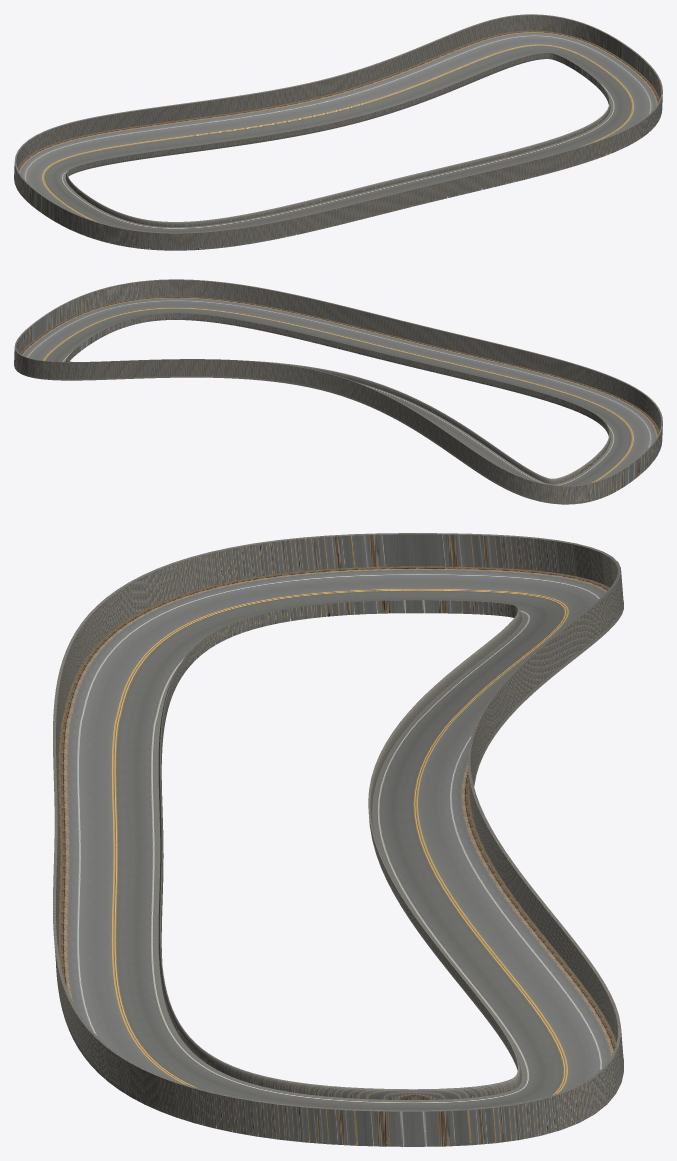
The model's file is Raceway_1.FBX.
The picture shows the model from 3 angles, top to bottom: view 1: azimuth 30°, elevation 25°; view 2: azimuth 150°, elevation 25°; view 3: azimuth 270°, elevation 25°; orthographic projection. The views are drawn at different scales.
Visible parts, largest first — view 1: Circle001; view 2: Circle001; view 3: Circle001.
Boxes of the visible parts, left/top/right/bottom form: Circle001: left=14, top=14, right=662, bottom=250; Circle001: left=14, top=279, right=662, bottom=504; Circle001: left=53, top=533, right=623, bottom=1146.
Size of the model in its own units: 386 by 30 by 161.
